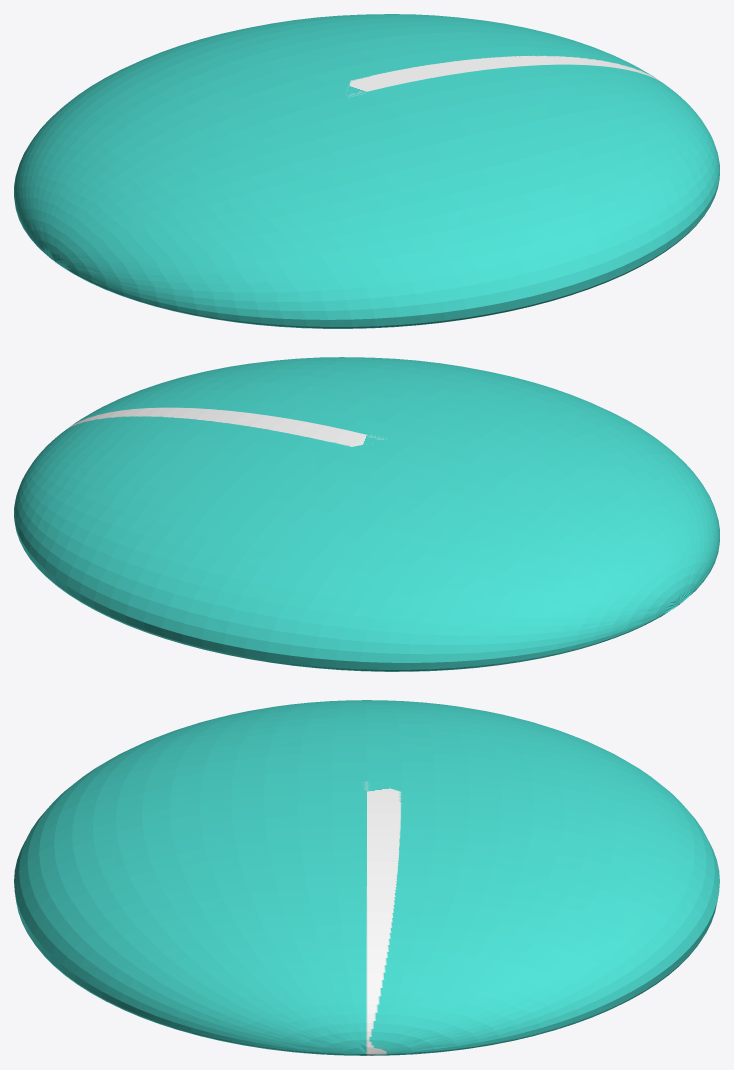
The model's file is december.fbx.
3 renders of one model, top to bottom at view 1: azimuth 30°, elevation 25°; view 2: azimuth 150°, elevation 25°; view 3: azimuth 270°, elevation 25°, orthographic. The views are drawn at different scales.
Parts seen in each view (by area): view 1: turquoise; view 2: turquoise; view 3: turquoise.
Boxes of the visible parts, left/top/right/bottom form: turquoise: left=14, top=14, right=719, bottom=328; turquoise: left=14, top=357, right=719, bottom=671; turquoise: left=14, top=700, right=719, bottom=1055.
Bounding box in the file's own units: 1295 × 230 × 1185.
Materials: 1 (1 with a texture image).
